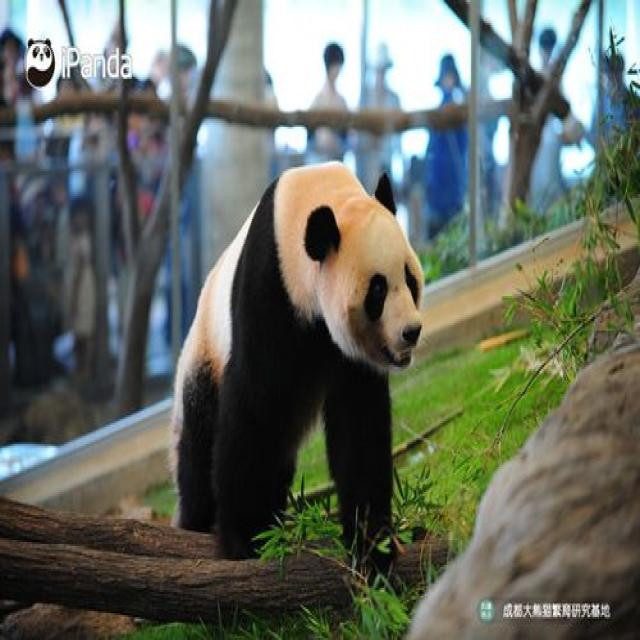panda: (159, 157, 441, 569)
